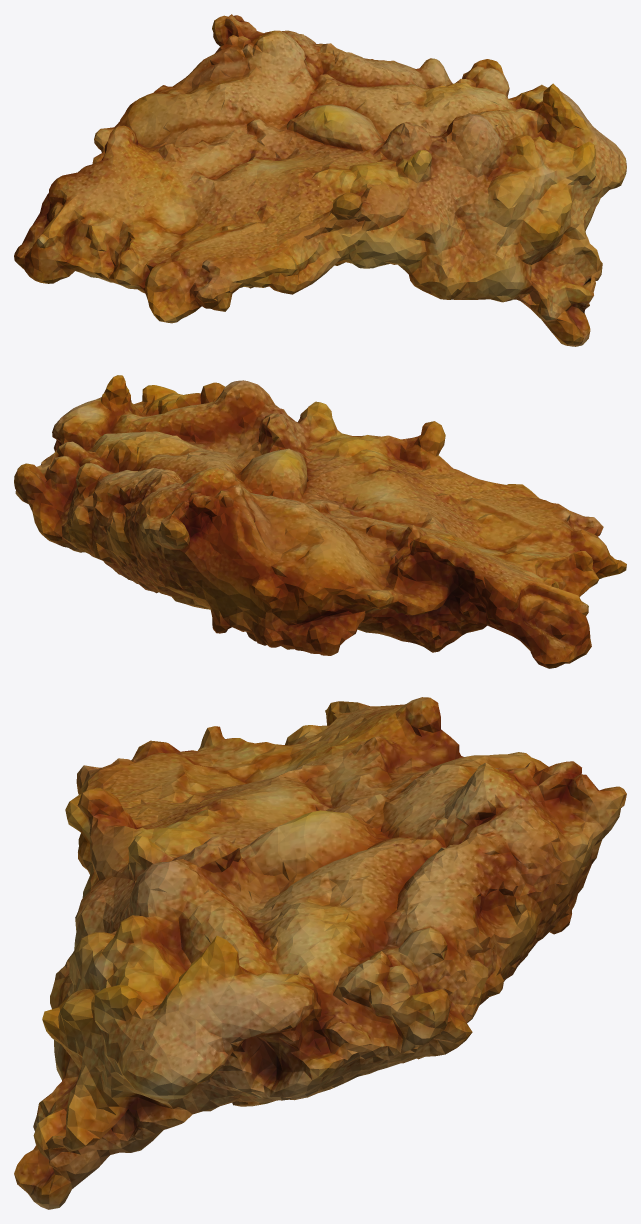
Rendered from chicken.glb.
3 renders of one model, top to bottom at view 1: azimuth 30°, elevation 25°; view 2: azimuth 150°, elevation 25°; view 3: azimuth 270°, elevation 25°, orthographic. The views are drawn at different scales.
Parts seen in each view (by area): view 1: world; view 2: world; view 3: world.
Boxes of the visible parts, bbox=[...] form: world: bbox=[14, 14, 626, 346]; world: bbox=[14, 375, 626, 668]; world: bbox=[14, 697, 626, 1209].
Size of the model in its own units: 0.9972 by 0.419 by 0.6956.
1 material, 1 textured.
